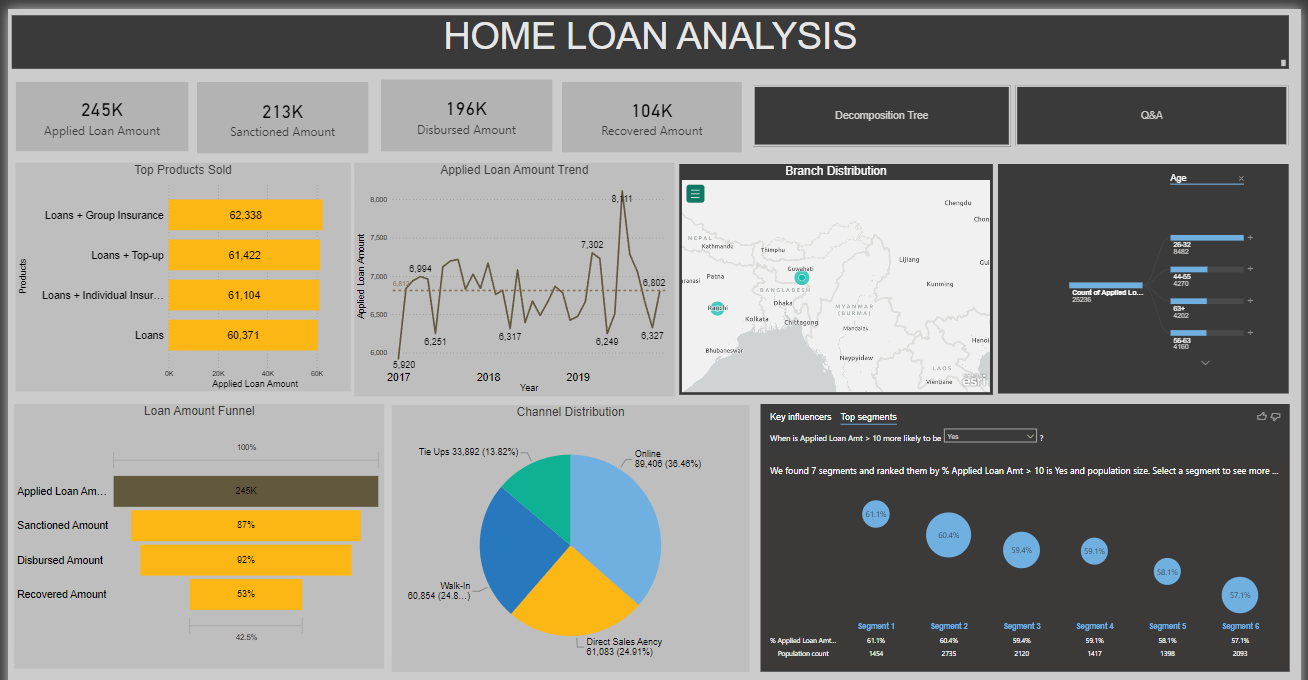

What the dashboard file says about the page in this screenshot:
{"tool":"powerbi","page":{"name":"Page 1","canvas":[1280,2000],"ordinal":0},"visuals":[{"type":"advanceCardE03760C5AB684758B56AA29F9E6C257B","fields":{"mainMeasure":["Customer.Applied Loan Amount"]},"box":[9.5,0,315,145],"z":0},{"type":"advanceCardE03760C5AB684758B56AA29F9E6C257B","fields":{"mainMeasure":["Sanction Data.Sanctioned Amount"]},"box":[332.6,0,315,145],"z":1000},{"type":"advanceCardE03760C5AB684758B56AA29F9E6C257B","fields":{"mainMeasure":["Sanction Data.Disbursed Amount"]},"box":[656.6,0,315,145],"z":2000},{"type":"advanceCardE03760C5AB684758B56AA29F9E6C257B","fields":{"mainMeasure":["Recovery Data.Recovered Amount"]},"box":[979.8,0,300,145.4],"z":3000},{"type":"funnel","title":"Loan Amount Funnel","fields":{"Y":["Customer.Applied Loan Amount","Sanction Data.Sanctioned Amount","Sanction Data.Disbursed Amount","Recovery Data.Recovered Amount"]},"box":[12.4,609.6,619.9,414.8],"z":4000},{"type":"lineChart","title":"Applied Loan Amount Trend","fields":{"Y":["Customer.Applied Loan Amount"],"Category":["Dates.Month Yr.Variation.Date Hierarchy.Year","Dates.Month Yr.Variation.Date Hierarchy.Quarter","Dates.Month Yr.Variation.Date Hierarchy.Month"]},"box":[652.5,165.7,621,414.8],"z":5000},{"type":"barChart","title":"Top Products Sold","fields":{"Y":["Customer.Applied Loan Amount"],"Category":["Product.Products"]},"box":[11.4,166.4,619.9,414.8],"z":6000},{"type":"pieChart","title":"Channel Distribution","fields":{"Y":["Customer.Applied Loan Amount"],"Category":["Channel.Channels"]},"box":[654.2,606.7,619.9,414.8],"z":7000},{"type":"esriVisual","title":"Branch Distribution","fields":{"Size":["Customer.Applied Loan Amount"],"Latitude":["Branch.Branch Latitute"],"Longitude":["Branch.Branch Longitude"],"Color":["Customer.Applied Loan Amt > 10"]},"box":[8.1,1049.5,621,414.8],"z":8000},{"type":"keyDriversVisual","title":"Branch Distribution","fields":{"Target":["Customer.Applied Loan Amt > 10"],"ExplainBy":["Customer.Age","Channel.Channels","Branch.Branch Name","Customer.Gender","Customer.Salary","Customer.Occupation","Product.Products"]},"box":[655.4,1050.4,621,414.8],"z":9000},{"type":"qnaVisual","title":"Branch Distribution","box":[657.8,1487.7,618.7,414.8],"z":11000},{"type":"actionButton","box":[185.5,1616.8,241.7,57.7],"z":12000},{"type":"actionButton","box":[187.1,1696.3,241.7,57.7],"z":13000}]}

Visuals, with their boxes on the page's 1280x2000 design canvas (x1, y1, x2, y2). These are canvas units, not pixel positions in the 1308x680 screenshot, which may show the page scaled, cropped or inside an application window:
advanceCardE03760C5AB684758B56AA29F9E6C257B - Customer.Applied Loan Amount: bbox(10, 0, 324, 145)
advanceCardE03760C5AB684758B56AA29F9E6C257B - Sanction Data.Sanctioned Amount: bbox(333, 0, 648, 145)
advanceCardE03760C5AB684758B56AA29F9E6C257B - Sanction Data.Disbursed Amount: bbox(657, 0, 972, 145)
advanceCardE03760C5AB684758B56AA29F9E6C257B - Recovery Data.Recovered Amount: bbox(980, 0, 1280, 145)
"Loan Amount Funnel" funnel: bbox(12, 610, 632, 1024)
"Applied Loan Amount Trend" lineChart: bbox(652, 166, 1274, 580)
"Top Products Sold" barChart: bbox(11, 166, 631, 581)
"Channel Distribution" pieChart: bbox(654, 607, 1274, 1022)
"Branch Distribution" esriVisual: bbox(8, 1050, 629, 1464)
"Branch Distribution" keyDriversVisual: bbox(655, 1050, 1276, 1465)
"Branch Distribution" qnaVisual: bbox(658, 1488, 1276, 1902)
actionButton: bbox(186, 1617, 427, 1674)
actionButton: bbox(187, 1696, 429, 1754)
